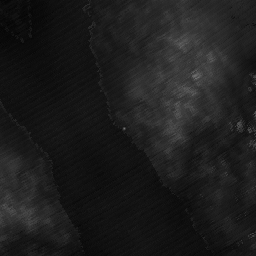Target: (122, 126, 126, 131)
